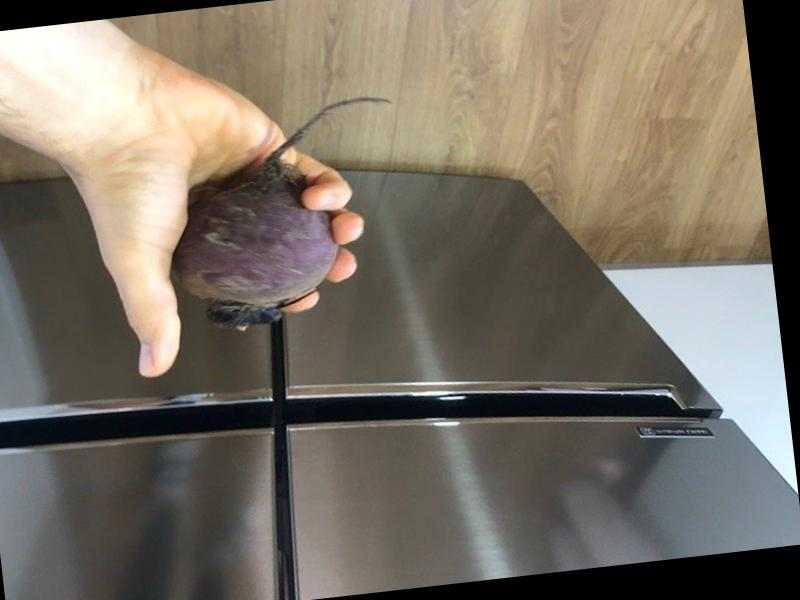Beet: (155, 95, 415, 336)
